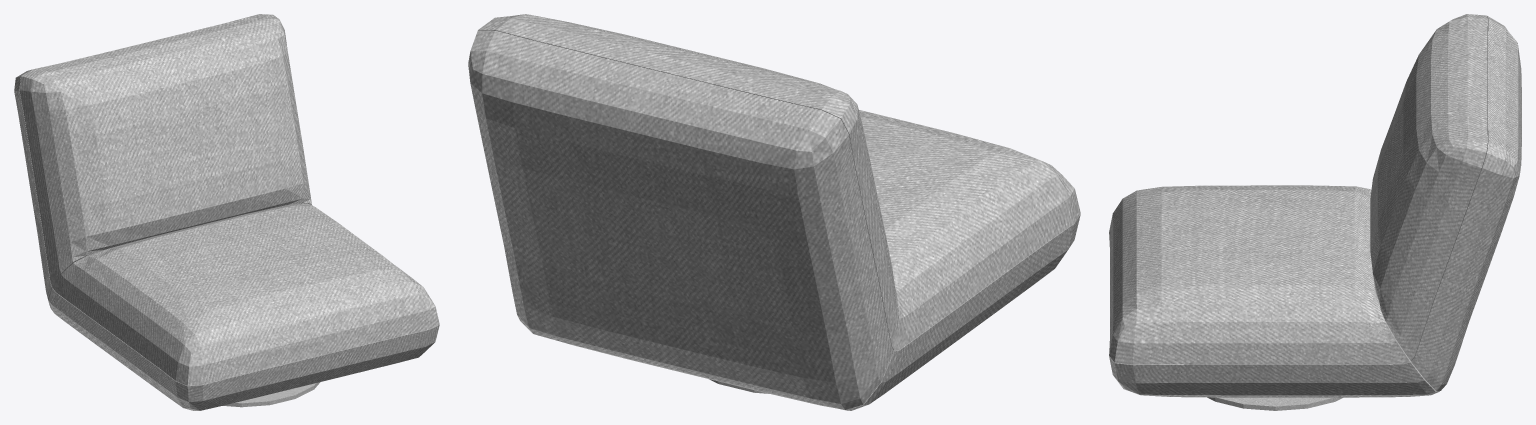
Rendered from swivel-accent-chair.glb.
3 views of the same model, side by side, from view 1: azimuth 30°, elevation 25°; view 2: azimuth 150°, elevation 25°; view 3: azimuth 270°, elevation 25° (orthographic). The views are drawn at different scales.
Visible parts, largest first — view 1: product; view 2: product; view 3: product.
Part boxes in pixels (<box>): product: <box>14,14,439,410</box>; product: <box>468,14,1080,410</box>; product: <box>1109,14,1521,410</box>.
Size of the model in its own units: 0.8109 by 0.7848 by 1.
1 material, 1 textured.
